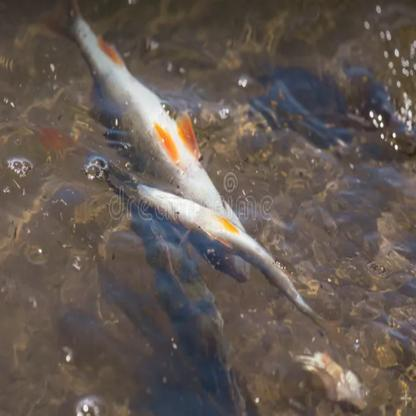deceased fish: (63, 6, 256, 280), (131, 178, 328, 331)
